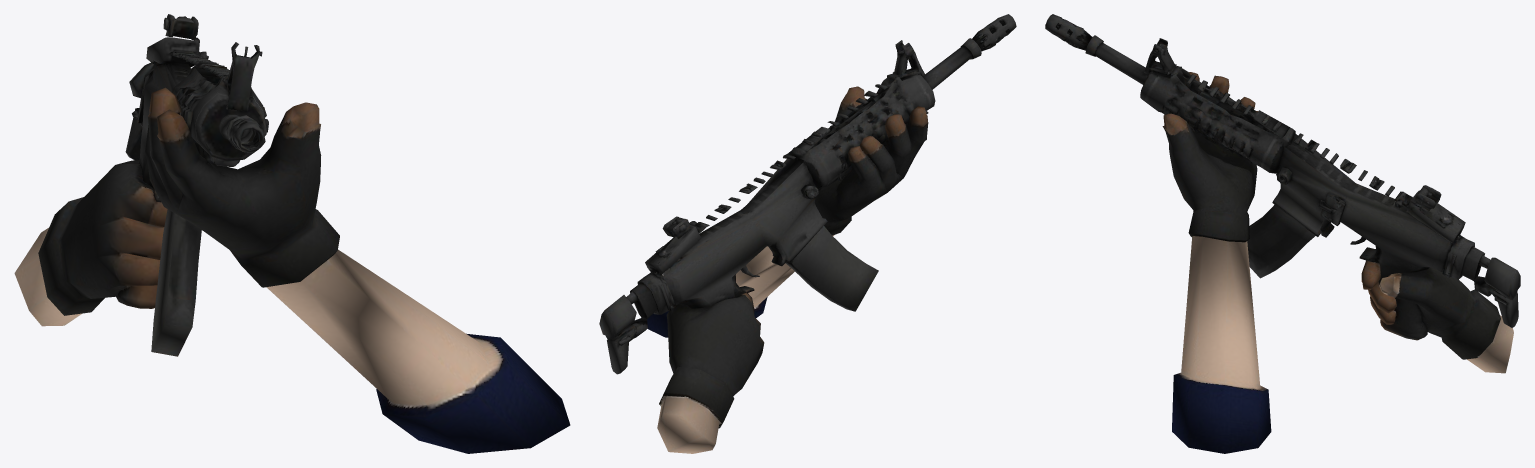
Rendered from assault-rifle.glb.
The picture shows the model from 3 angles, left to right: view 1: azimuth 30°, elevation 25°; view 2: azimuth 150°, elevation 25°; view 3: azimuth 270°, elevation 25°; orthographic projection. The views are drawn at different scales.
Visible parts, largest first — view 1: Rifle_body; view 2: Rifle_body; view 3: Rifle_body.
Part boxes in pixels (x1,y1,x2,y2): Rifle_body: (14, 14, 570, 453); Rifle_body: (599, 14, 1016, 453); Rifle_body: (1045, 14, 1520, 453).
Bounding box in the file's own units: 0.6973 × 0.7129 × 0.998.
1 material, 1 textured.
